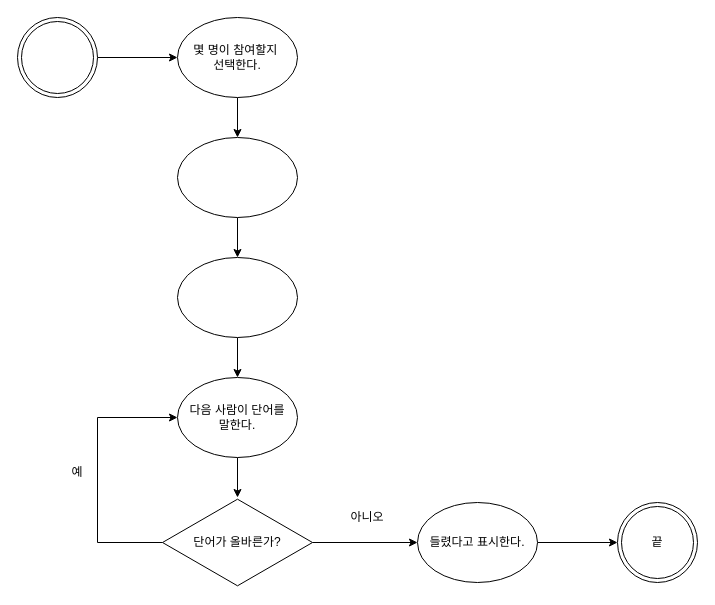
Image size: 715x605. Some labels were removed from this diagram. Each missing label, with the centre of its shape:
시작: point (57, 57)
참가자 순서를 정한다.: point (237, 177)
첫 번째 사람이 제시어를 말한다.: point (237, 297)
